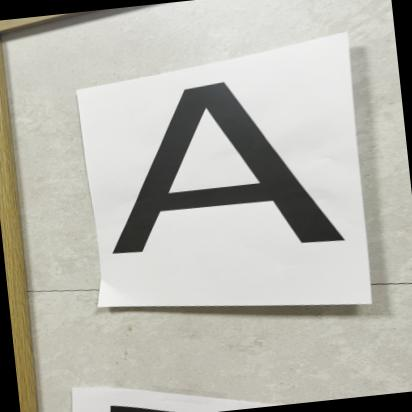seat: (100, 63, 354, 277)
